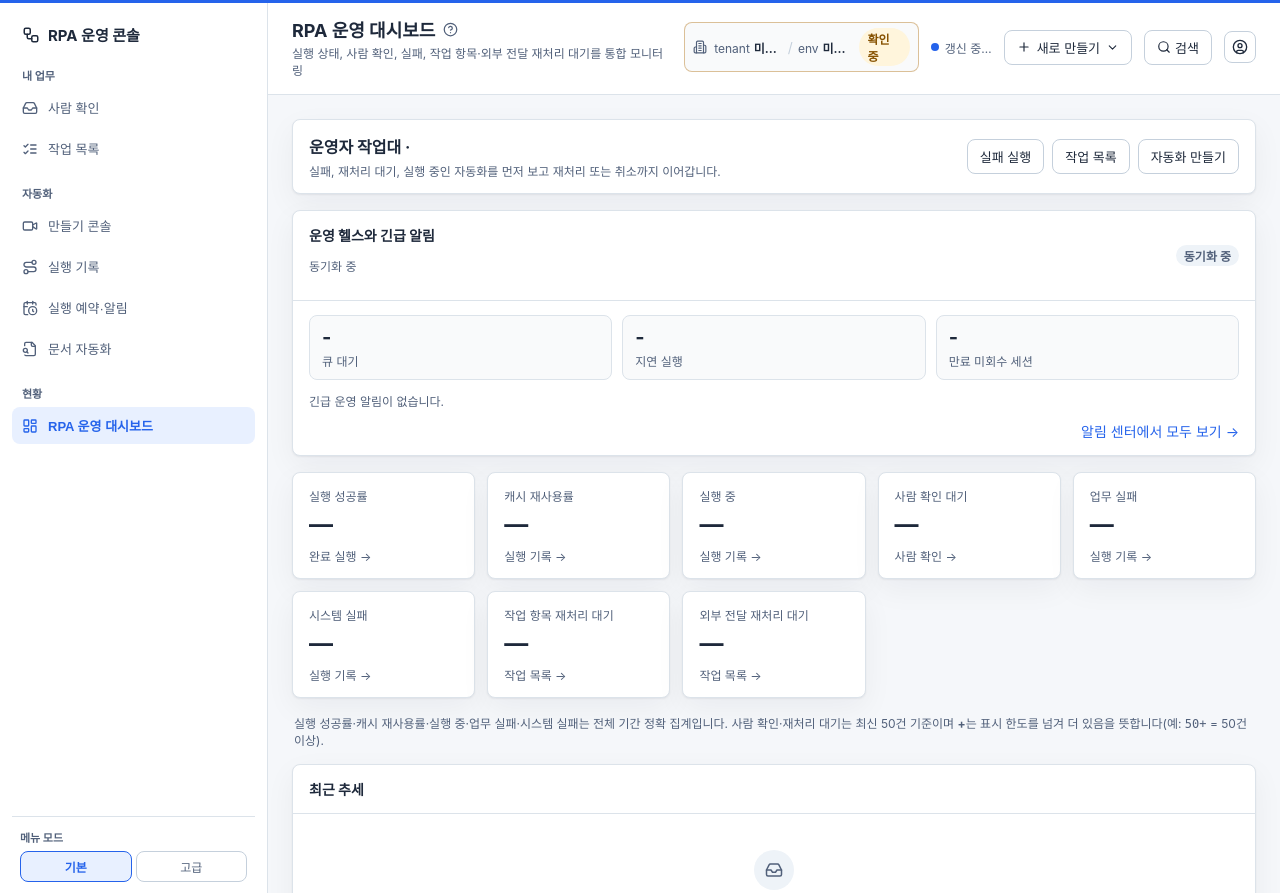
layout subject chip › keeps long account identifiers available while showing a compact label
Click the button named "계정 메뉴" at (1240, 47), box [1224,31,1256,63]
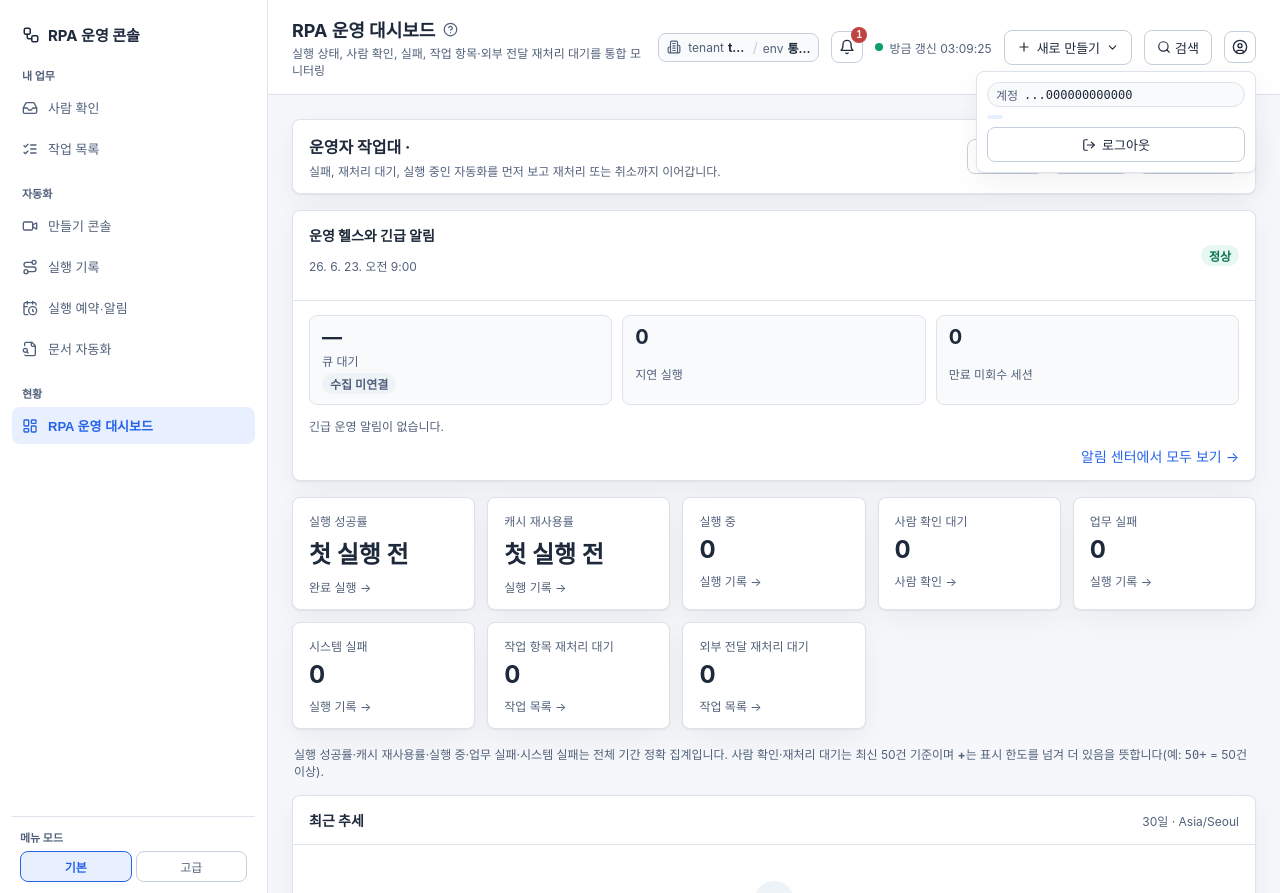
Check: the text "...000000000000" is shown, box [1024,88,1132,102]
